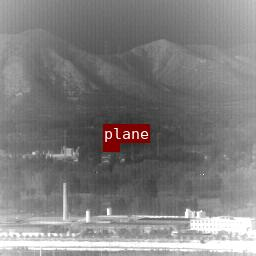plane: (103, 143, 119, 151)
